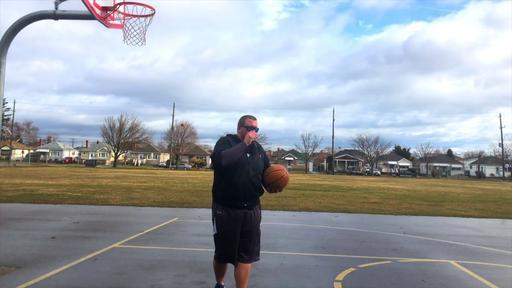ball: (264, 164, 290, 191)
human: (212, 115, 270, 287)
rim: (103, 2, 156, 46)
